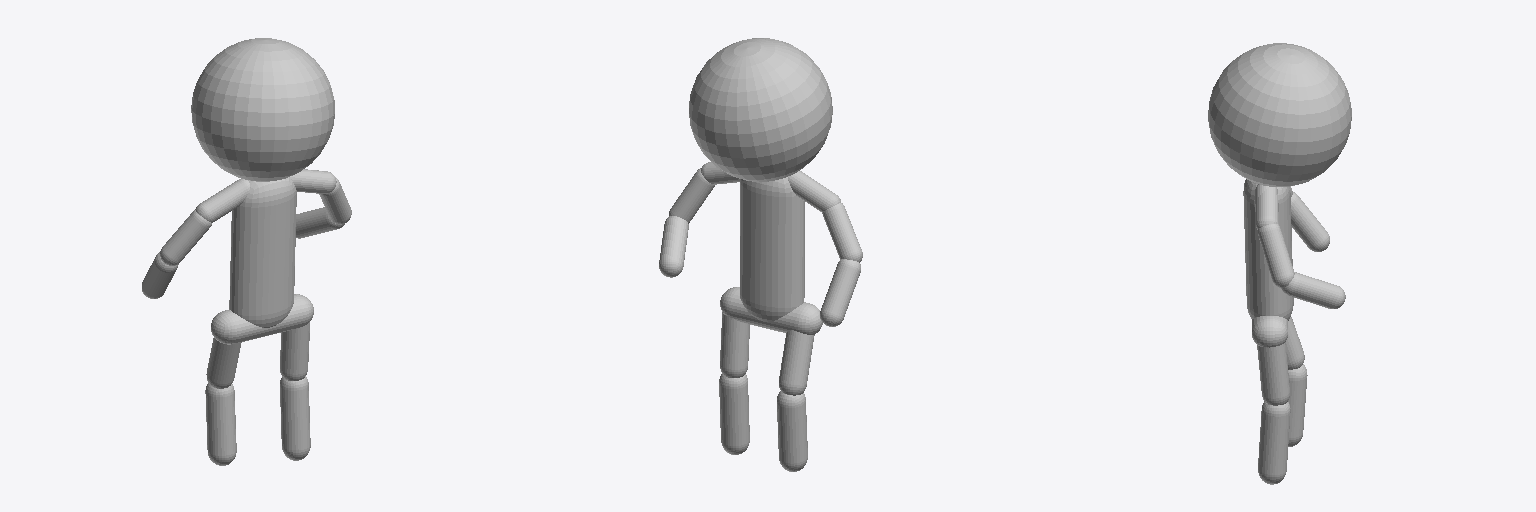
File: Stickman_000036.obj
The picture shows the model from 3 angles: view 1: azimuth 30°, elevation 25°; view 2: azimuth 150°, elevation 25°; view 3: azimuth 270°, elevation 25°; orthographic projection.
Parts seen in each view (by area): view 1: Head_Sphere.001, Body_Roundcube.002, LowerLegLeft_Roundcube.013, LowerLegRight_Roundcube.011, Hip_Roundcube.005, UpperLegLeft_Roundcube.012, UpperArmRight_Roundcube.015, UpperLegRight_Roundcube.010, ShoulderRight_Roundcube.014, LowerArmRight_Roundcube.016, LowerArmLeft_Roundcube.019, ShoulderLeft_Roundcube.017 (+1 smaller); view 2: Head_Sphere.001, Body_Roundcube.002, LowerLegLeft_Roundcube.013, LowerLegRight_Roundcube.011, Hip_Roundcube.005, UpperLegRight_Roundcube.010, LowerArmRight_Roundcube.016, UpperLegLeft_Roundcube.012, LowerArmLeft_Roundcube.019, UpperArmRight_Roundcube.015, UpperArmLeft_Roundcube.018, ShoulderRight_Roundcube.014; view 3: Head_Sphere.001, Body_Roundcube.002, LowerLegLeft_Roundcube.013, UpperLegLeft_Roundcube.012, UpperArmLeft_Roundcube.018, LowerArmLeft_Roundcube.019, LowerArmRight_Roundcube.016, LowerLegRight_Roundcube.011, Hip_Roundcube.005, ShoulderLeft_Roundcube.017, UpperLegRight_Roundcube.010.
Boxes of the visible parts, x1=… form: Head_Sphere.001: x1=191, y1=38, x2=334, y2=181; Body_Roundcube.002: x1=229, y1=177, x2=296, y2=327; LowerLegLeft_Roundcube.013: x1=280, y1=376, x2=310, y2=460; LowerLegRight_Roundcube.011: x1=205, y1=383, x2=236, y2=465; Hip_Roundcube.005: x1=211, y1=294, x2=313, y2=344; UpperLegLeft_Roundcube.012: x1=280, y1=322, x2=309, y2=380; UpperArmRight_Roundcube.015: x1=160, y1=210, x2=211, y2=265; UpperLegRight_Roundcube.010: x1=206, y1=338, x2=241, y2=388; ShoulderRight_Roundcube.014: x1=195, y1=179, x2=249, y2=222; LowerArmRight_Roundcube.016: x1=142, y1=252, x2=178, y2=298; LowerArmLeft_Roundcube.019: x1=296, y1=207, x2=344, y2=238; ShoulderLeft_Roundcube.017: x1=290, y1=169, x2=336, y2=193; Head_Sphere.001: x1=689, y1=38, x2=832, y2=181; Body_Roundcube.002: x1=740, y1=177, x2=804, y2=321; LowerLegLeft_Roundcube.013: x1=719, y1=374, x2=749, y2=454; LowerLegRight_Roundcube.011: x1=777, y1=391, x2=807, y2=471; Hip_Roundcube.005: x1=720, y1=287, x2=822, y2=334; UpperLegRight_Roundcube.010: x1=779, y1=330, x2=814, y2=395; LowerArmRight_Roundcube.016: x1=820, y1=259, x2=860, y2=326; UpperLegLeft_Roundcube.012: x1=720, y1=312, x2=749, y2=377; LowerArmLeft_Roundcube.019: x1=659, y1=216, x2=688, y2=277; UpperArmRight_Roundcube.015: x1=822, y1=203, x2=862, y2=262; UpperArmLeft_Roundcube.018: x1=669, y1=168, x2=714, y2=223; ShoulderRight_Roundcube.014: x1=788, y1=171, x2=840, y2=212; Head_Sphere.001: x1=1208, y1=43, x2=1351, y2=186; Body_Roundcube.002: x1=1243, y1=179, x2=1293, y2=320; LowerLegLeft_Roundcube.013: x1=1258, y1=401, x2=1290, y2=484; UpperLegLeft_Roundcube.012: x1=1257, y1=342, x2=1289, y2=405; UpperArmLeft_Roundcube.018: x1=1258, y1=224, x2=1294, y2=287; LowerArmLeft_Roundcube.019: x1=1281, y1=272, x2=1345, y2=308; LowerArmRight_Roundcube.016: x1=1291, y1=192, x2=1329, y2=251; LowerLegRight_Roundcube.011: x1=1288, y1=364, x2=1307, y2=446; Hip_Roundcube.005: x1=1252, y1=316, x2=1287, y2=347; ShoulderLeft_Roundcube.017: x1=1255, y1=184, x2=1278, y2=229; UpperLegRight_Roundcube.010: x1=1286, y1=317, x2=1304, y2=369.
Size of the model in its own units: 5.41 by 11.3 by 3.52.